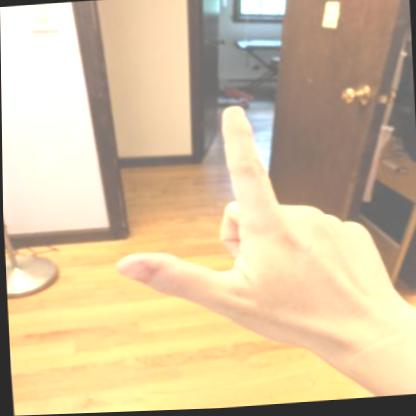L: (86, 83, 416, 383)
